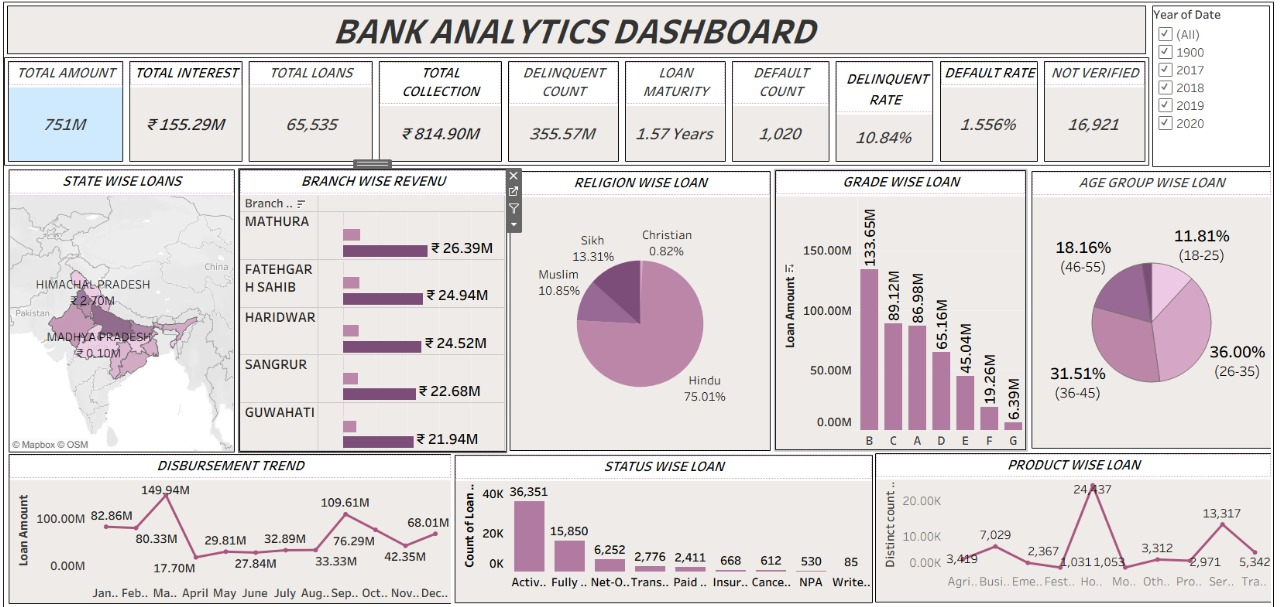

This screenshot's page, from the dashboard's own definition file:
{"tool":"tableau","page":{"name":"Dashboard1","canvas":[1000,1000],"units":"permille","ordinal":0},"visuals":[{"type":"title","box":[5.3,11.2,895.7,88.6]},{"type":"filter","title":"Total Interest","param":"[federated.0l23b24156va1h11dt08z0hid11w].[yr:Date:ok]","box":[901,11.2,93.7,270.9]},{"type":"worksheet","title":"Total loan amount","mark":"Automatic","box":[5.9,101.1,92,172.3]},{"type":"worksheet","title":"Total Interest","mark":"Automatic","box":[97.9,101.1,90.2,172.3]},{"type":"worksheet","title":"Total loans","mark":"Automatic","box":[188.1,101.1,98.4,172.3]},{"type":"worksheet","title":"Total Collection","mark":"Automatic","box":[286.5,101.1,97.8,172.3]},{"type":"worksheet","title":" Delinquent Clients Count","mark":"Automatic","box":[384.3,101.1,88.5,172.3]},{"type":"worksheet","title":"Loan Maturity","mark":"Automatic","box":[472.8,101.1,80.9,172.3]},{"type":"worksheet","title":"Default Loan Count","mark":"Automatic","box":[553.6,101.1,88.4,172.3]},{"type":"worksheet","title":"Delinquent Loan Rate","mark":"Automatic","box":[642.1,101.1,88.4,172.3]},{"type":"worksheet","title":"Default Loan Rate1","mark":"Automatic","box":[730.5,101.1,88.4,172.3]},{"type":"worksheet","title":"Not Verified Loans","mark":"Text","box":[819,101.1,81.4,172.3]},{"type":"worksheet","title":"State Wise Loans","mark":"Automatic","box":[8.8,280.9,176.3,456.9]},{"type":"worksheet","title":"Branch Wise Revenue","mark":"Automatic","rows":["Branch Name"],"box":[188.6,280.9,208,455.7]},{"type":"worksheet","title":"Grade Wise Loan","mark":"Automatic","rows":["Loan Amount"],"cols":["Grade"],"box":[606.3,282.2,195.7,451.9]},{"type":"worksheet","title":"Religion wise Loan","mark":"Pie","box":[399.5,283.4,203.3,451.9]},{"type":"worksheet","title":"Age wise loan","mark":"Pie","box":[806.1,283.4,186.9,448.2]},{"type":"worksheet","title":"Product Group Wise Loan","mark":"Line","rows":["Account ID"],"cols":["Purpose Category"],"box":[684.2,739.1,308.7,241]},{"type":"worksheet","title":"Disbursment Trend","mark":"Automatic","rows":["Loan Amount"],"cols":["Disbursement Date"],"box":[8.8,740.3,345.1,242.2]},{"type":"worksheet","title":"Status wise loan","mark":"Automatic","rows":["Loan Amount"],"cols":["Loan Status"],"box":[356.8,741.6,325.7,239.7]}]}

Visuals, with their boxes on the dashboard's canvas, which has no fixed pixel size, in thousandths of its width and height (x1, y1, x2, y2). These are canvas units, not pixel positions in the 1280x607 screenshot, which may show the page scaled, cropped or inside an application window:
title: left=5, top=11, right=901, bottom=100
"Total Interest" filter: left=901, top=11, right=995, bottom=282
"Total loan amount" worksheet: left=6, top=101, right=98, bottom=273
"Total Interest" worksheet: left=98, top=101, right=188, bottom=273
"Total loans" worksheet: left=188, top=101, right=286, bottom=273
"Total Collection" worksheet: left=286, top=101, right=384, bottom=273
" Delinquent Clients Count" worksheet: left=384, top=101, right=473, bottom=273
"Loan Maturity" worksheet: left=473, top=101, right=554, bottom=273
"Default Loan Count" worksheet: left=554, top=101, right=642, bottom=273
"Delinquent Loan Rate" worksheet: left=642, top=101, right=730, bottom=273
"Default Loan Rate1" worksheet: left=730, top=101, right=819, bottom=273
"Not Verified Loans" worksheet (Text marks): left=819, top=101, right=900, bottom=273
"State Wise Loans" worksheet: left=9, top=281, right=185, bottom=738
"Branch Wise Revenue" worksheet: left=189, top=281, right=397, bottom=737
"Grade Wise Loan" worksheet: left=606, top=282, right=802, bottom=734
"Religion wise Loan" worksheet (Pie marks): left=400, top=283, right=603, bottom=735
"Age wise loan" worksheet (Pie marks): left=806, top=283, right=993, bottom=732
"Product Group Wise Loan" worksheet (Line marks): left=684, top=739, right=993, bottom=980
"Disbursment Trend" worksheet: left=9, top=740, right=354, bottom=982
"Status wise loan" worksheet: left=357, top=742, right=682, bottom=981
